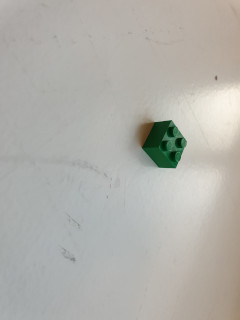2x2 green: (141, 118, 189, 171)
